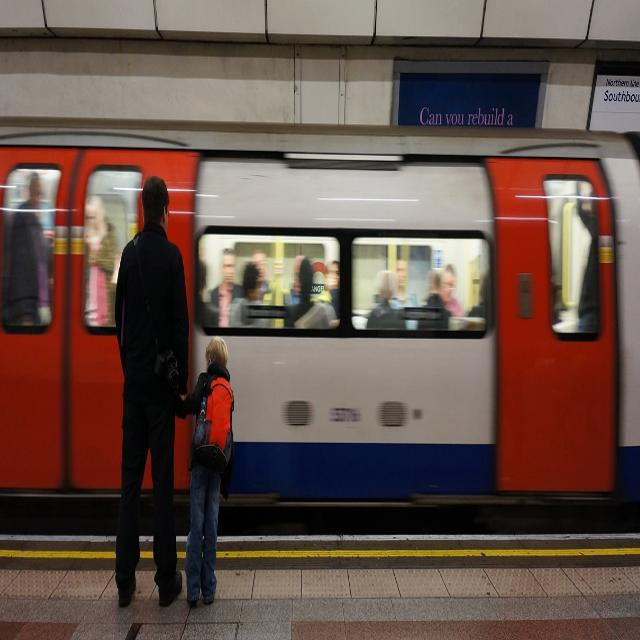body: (110, 171, 193, 611), (178, 334, 238, 610), (567, 169, 612, 447), (75, 187, 118, 415), (233, 250, 338, 336), (7, 170, 52, 326), (210, 245, 247, 328), (386, 253, 419, 330), (365, 269, 406, 330), (416, 268, 449, 331), (544, 246, 564, 338), (196, 256, 220, 328), (440, 261, 465, 318), (470, 265, 490, 333)
